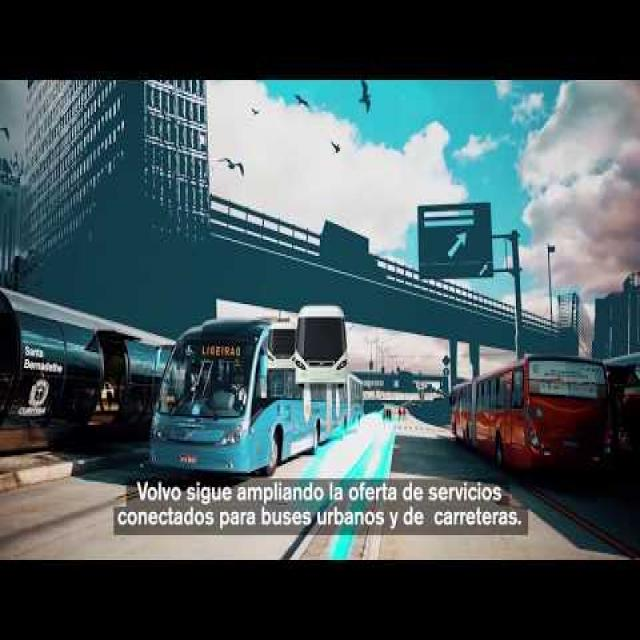AB: (447, 354, 612, 476)
